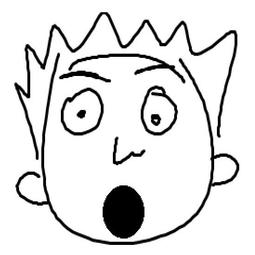ear: (13, 164, 61, 209), (200, 144, 242, 190)
eye: (56, 85, 104, 141), (138, 84, 179, 135)
frowning_eyebrow: (57, 69, 117, 86), (135, 61, 168, 78)
nose: (108, 134, 147, 169)
open_mouth: (96, 179, 149, 243)
